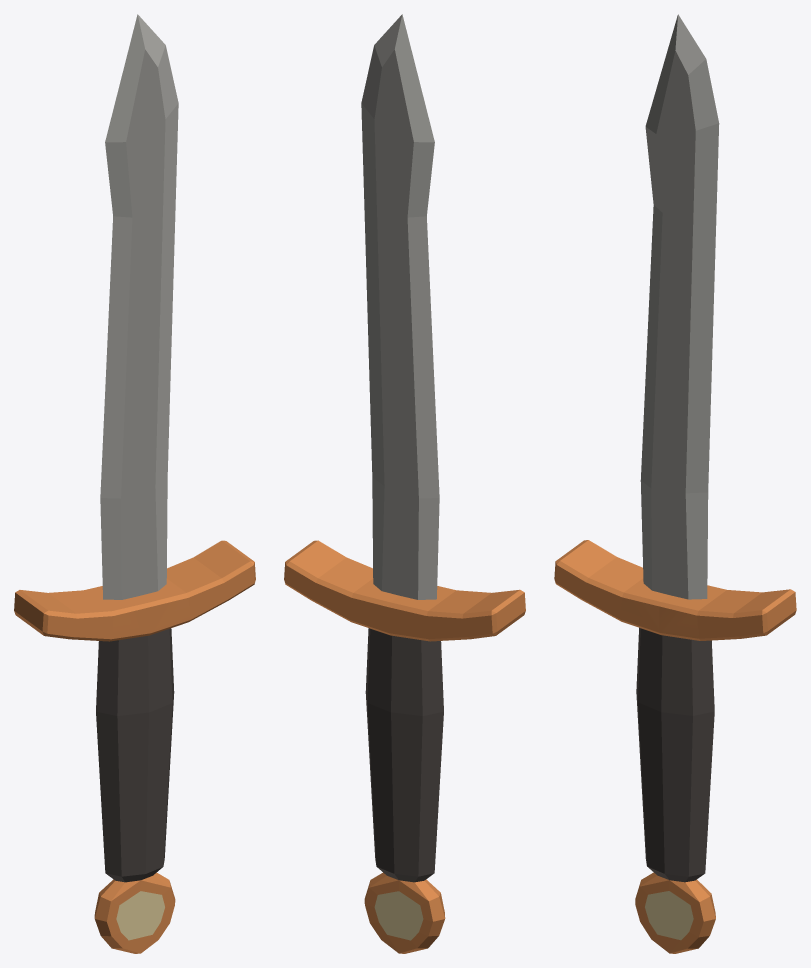
Rendered from SM_pwe_persia_dagger_01.fbx.
3 renders of one model, left to right at view 1: azimuth 30°, elevation 25°; view 2: azimuth 150°, elevation 25°; view 3: azimuth 330°, elevation 25°, orthographic.
Parts seen in each view (by area): view 1: SM_pwe_persia_dagger_01; view 2: SM_pwe_persia_dagger_01; view 3: SM_pwe_persia_dagger_01.
Part boxes in pixels (x1,y1,x2,y2): SM_pwe_persia_dagger_01: (14,14,255,953); SM_pwe_persia_dagger_01: (284,14,525,953); SM_pwe_persia_dagger_01: (554,14,796,953).
Size of the model in its own units: 14.39 by 60.54 by 3.74.
